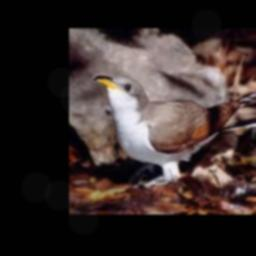Cuckoo: (93, 75, 256, 184)
